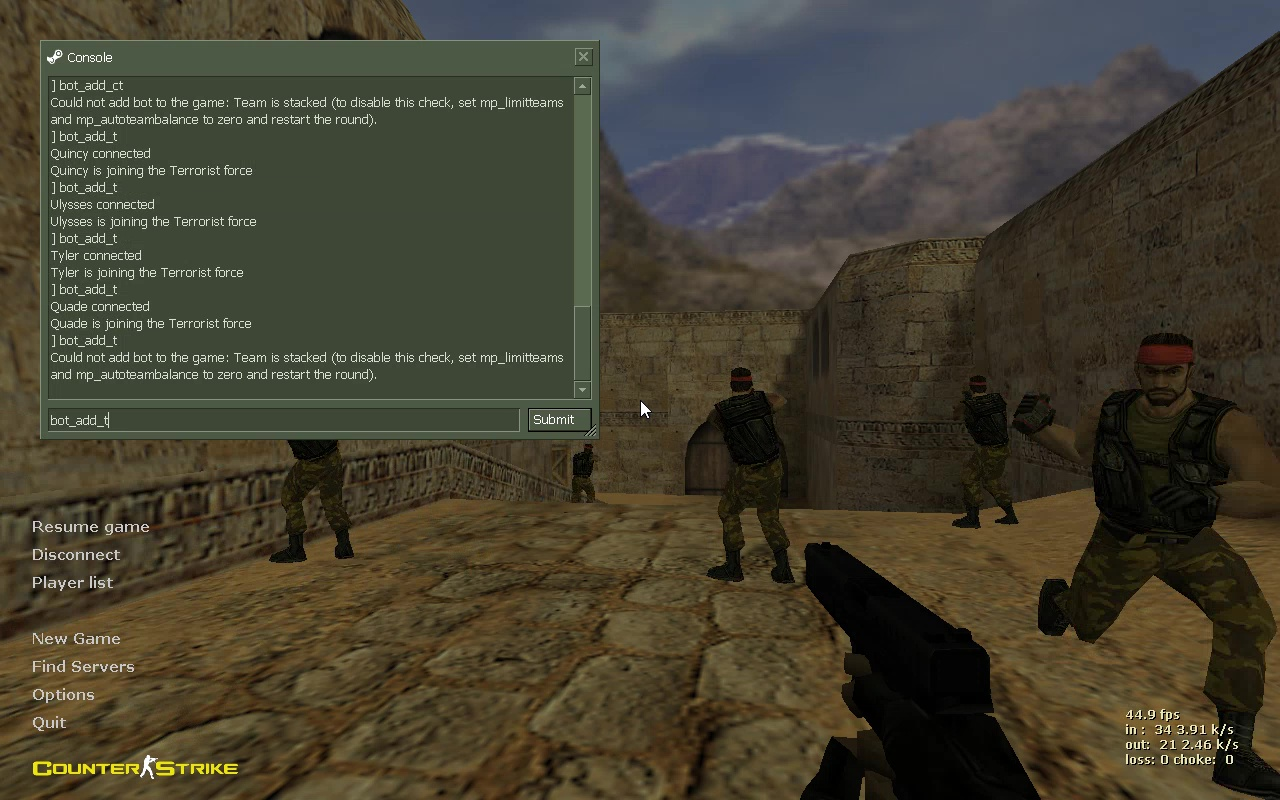terr1: (1016, 337, 1279, 800), (706, 369, 796, 587), (952, 368, 1018, 530), (563, 445, 604, 497)
